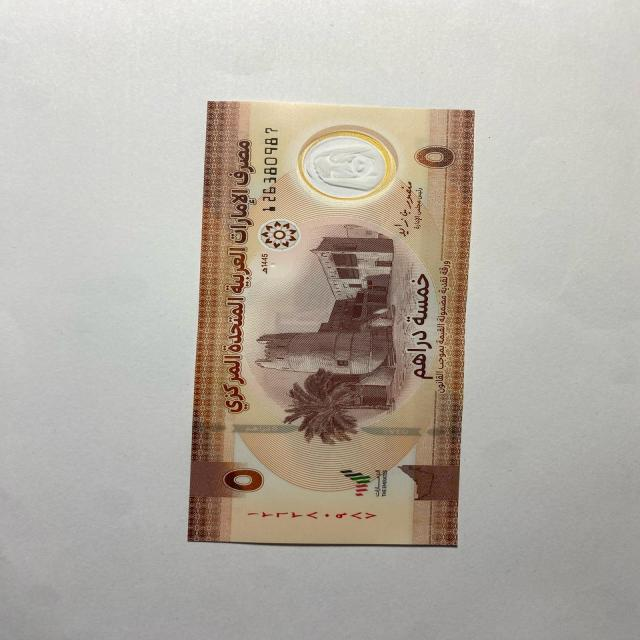5_AED: (182, 100, 479, 550)
